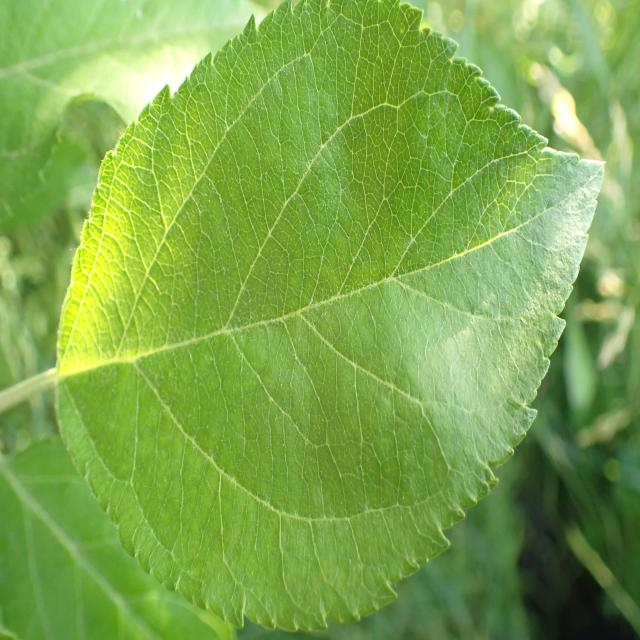healthy: (56, 2, 606, 631), (1, 0, 265, 229), (0, 434, 235, 640)
